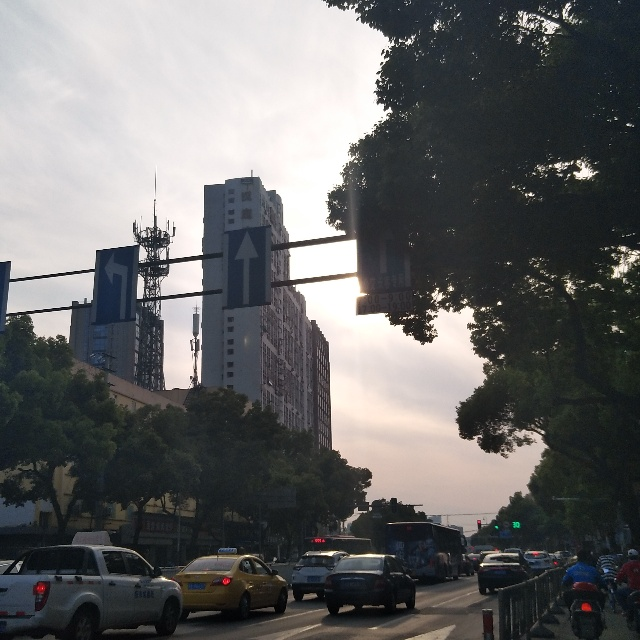left: (88, 245, 143, 330)
straight: (222, 222, 275, 311)
